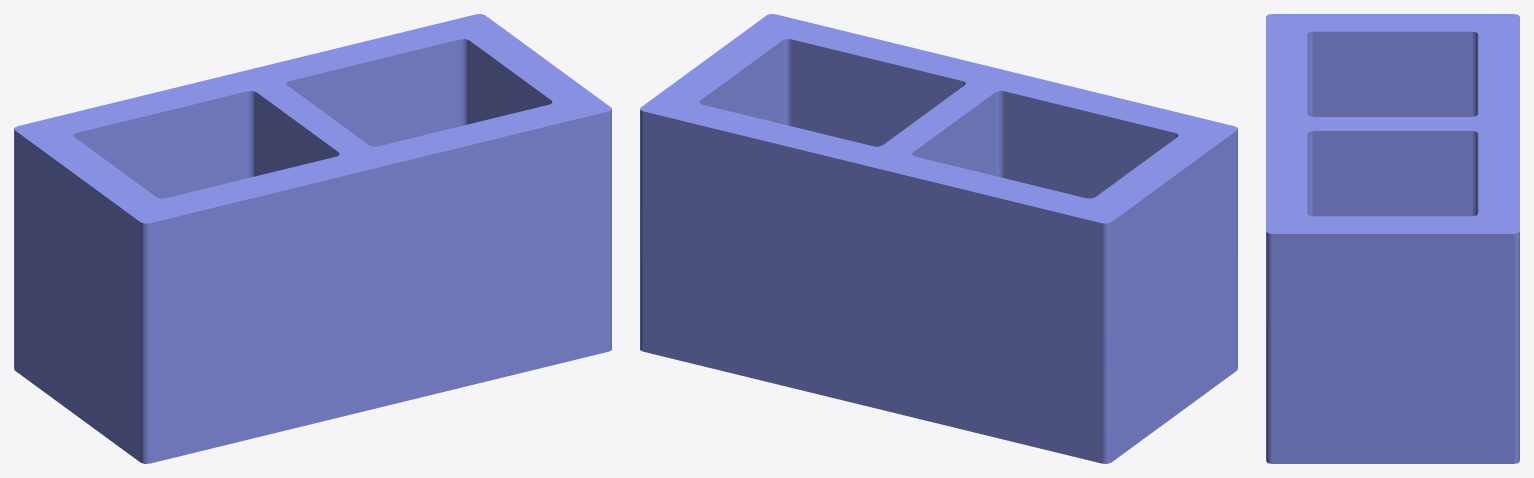
Rendered from cmu.fbx.
3 views of the same model, side by side, from view 1: azimuth 30°, elevation 25°; view 2: azimuth 150°, elevation 25°; view 3: azimuth 270°, elevation 25° (orthographic). The views are drawn at different scales.
Visible parts, largest first — view 1: Cinderblock; view 2: Cinderblock; view 3: Cinderblock.
Boxes of the visible parts, bbox=[...] form: Cinderblock: bbox=[14, 14, 611, 463]; Cinderblock: bbox=[640, 14, 1237, 463]; Cinderblock: bbox=[1266, 14, 1519, 463].
Size of the model in its own units: 0.3969 by 0.1937 by 0.1937.
